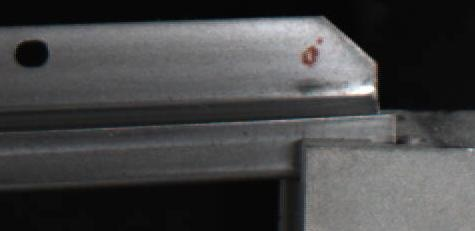cut: (257, 15, 397, 177)
holes: (12, 37, 50, 68)
